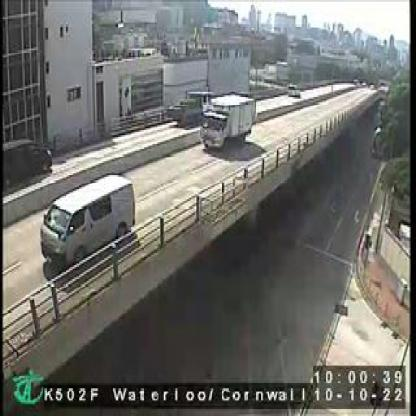Bus: (39, 176, 134, 270)
Car: (3, 139, 54, 191)
Truck: (200, 94, 254, 150)
